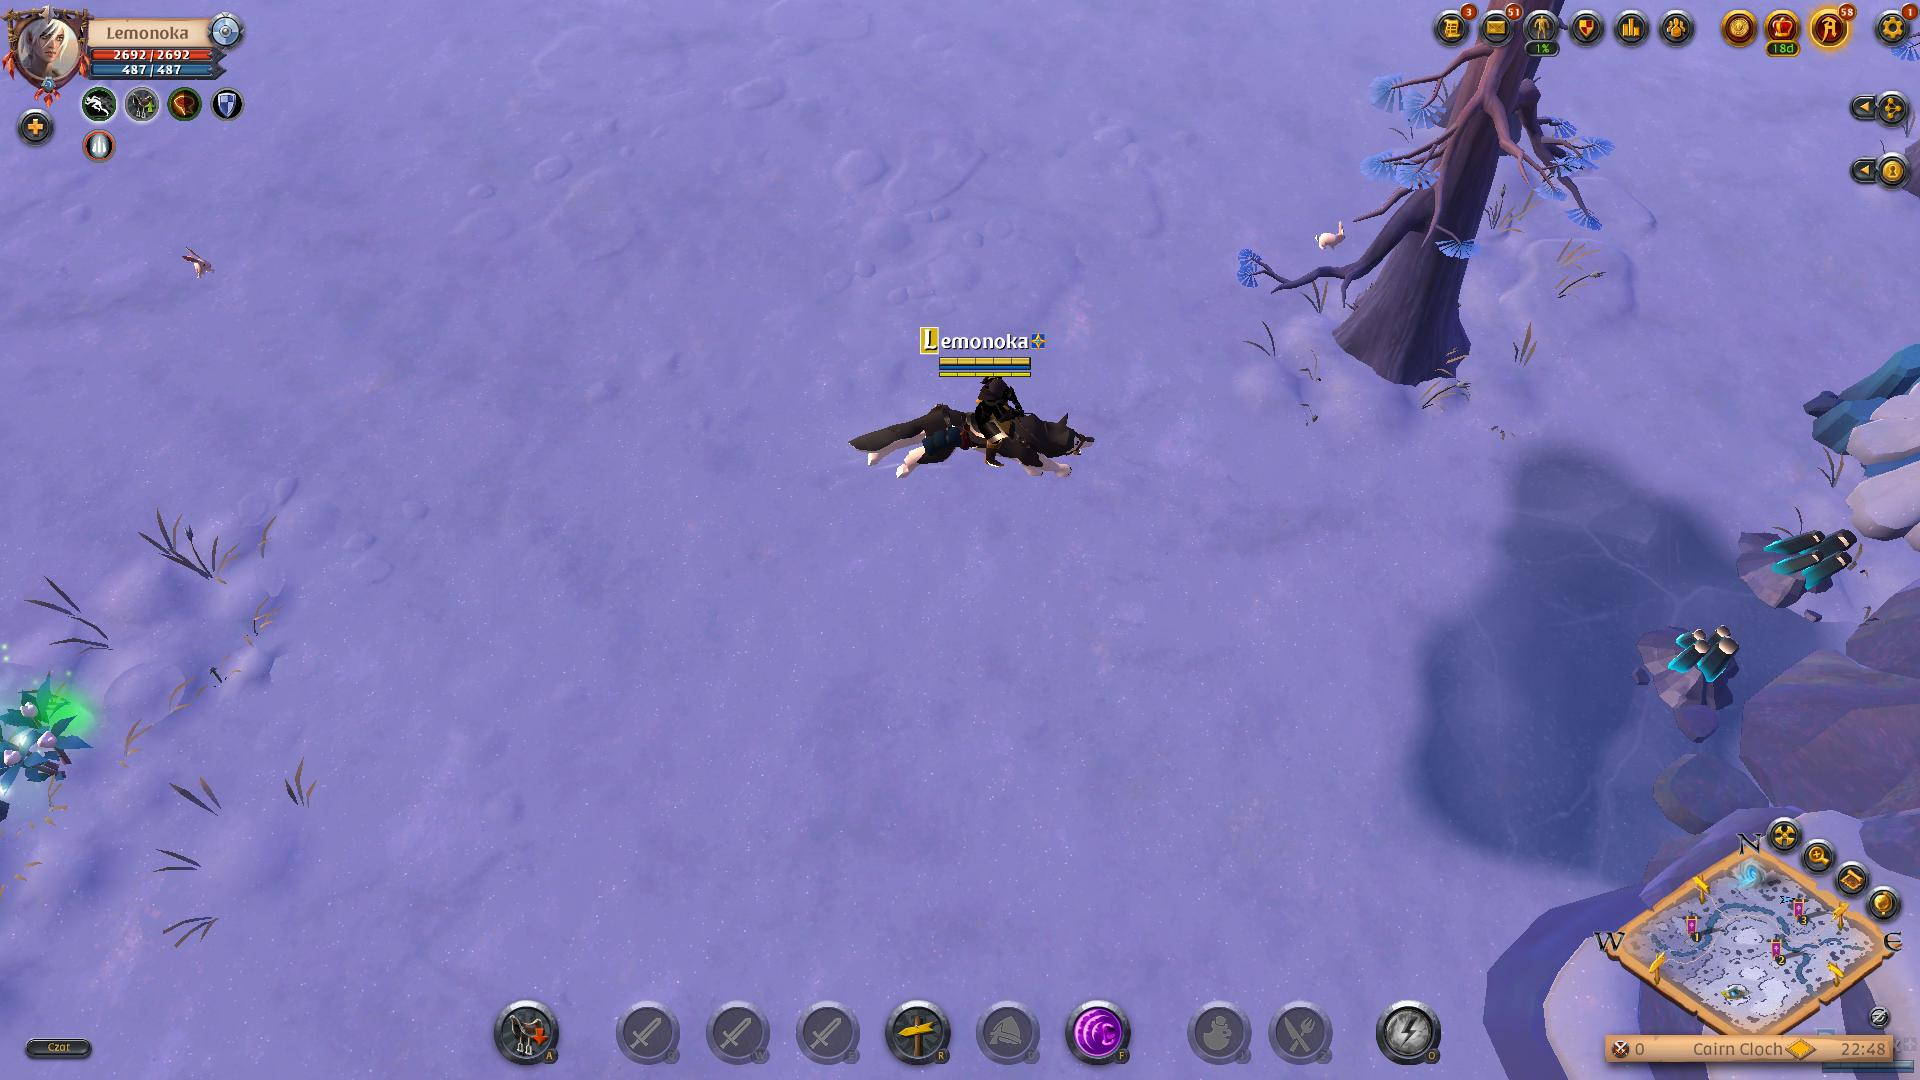fiber tier 4: (0, 675, 115, 802)
ore tier 4: (1659, 617, 1746, 724), (1763, 517, 1851, 605)
